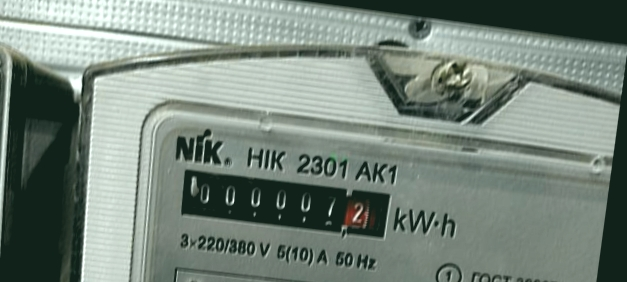0: (198, 180, 215, 206), (275, 187, 292, 212), (224, 183, 240, 207), (250, 185, 266, 209), (300, 190, 315, 214)
2: (352, 201, 367, 225)
7: (325, 193, 340, 218)
screen: (169, 156, 403, 251)
